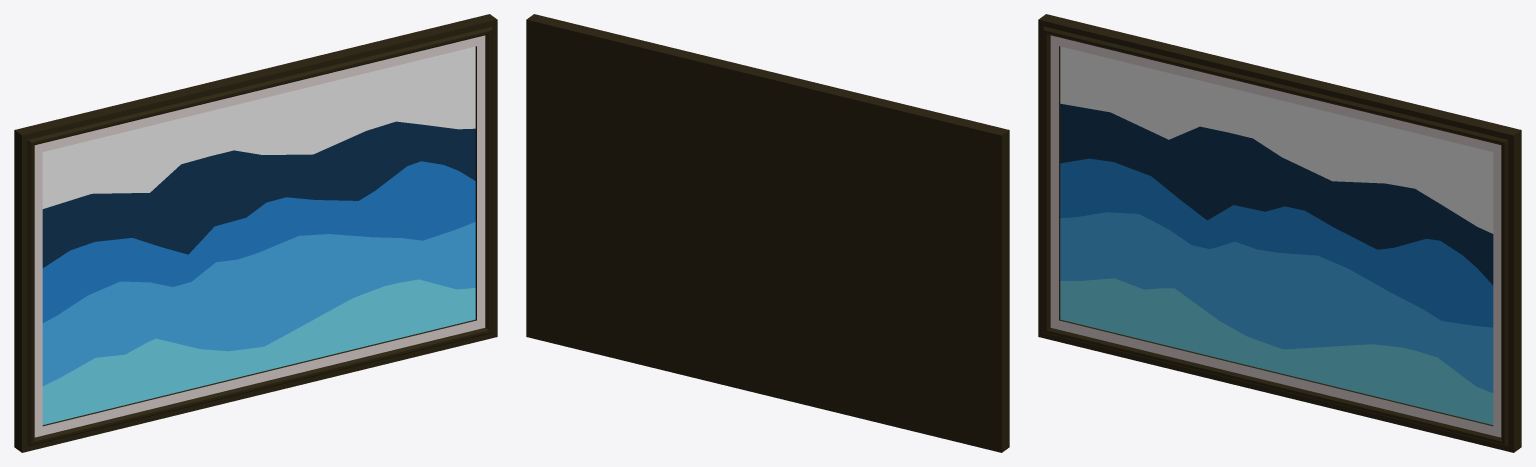
Rendered from Prop_Paint_03.fbx.
The picture shows the model from 3 angles, left to right: view 1: azimuth 30°, elevation 25°; view 2: azimuth 150°, elevation 25°; view 3: azimuth 330°, elevation 25°; orthographic projection.
Parts seen in each view (by area): view 1: Prop_Paint_03; view 2: Prop_Paint_03; view 3: Prop_Paint_03.
Boxes of the visible parts, left/top/right/bottom form: Prop_Paint_03: left=14, top=14, right=497, bottom=452; Prop_Paint_03: left=526, top=14, right=1009, bottom=452; Prop_Paint_03: left=1038, top=14, right=1521, bottom=452.
Size of the model in its own units: 86.43 by 55.14 by 2.95.
